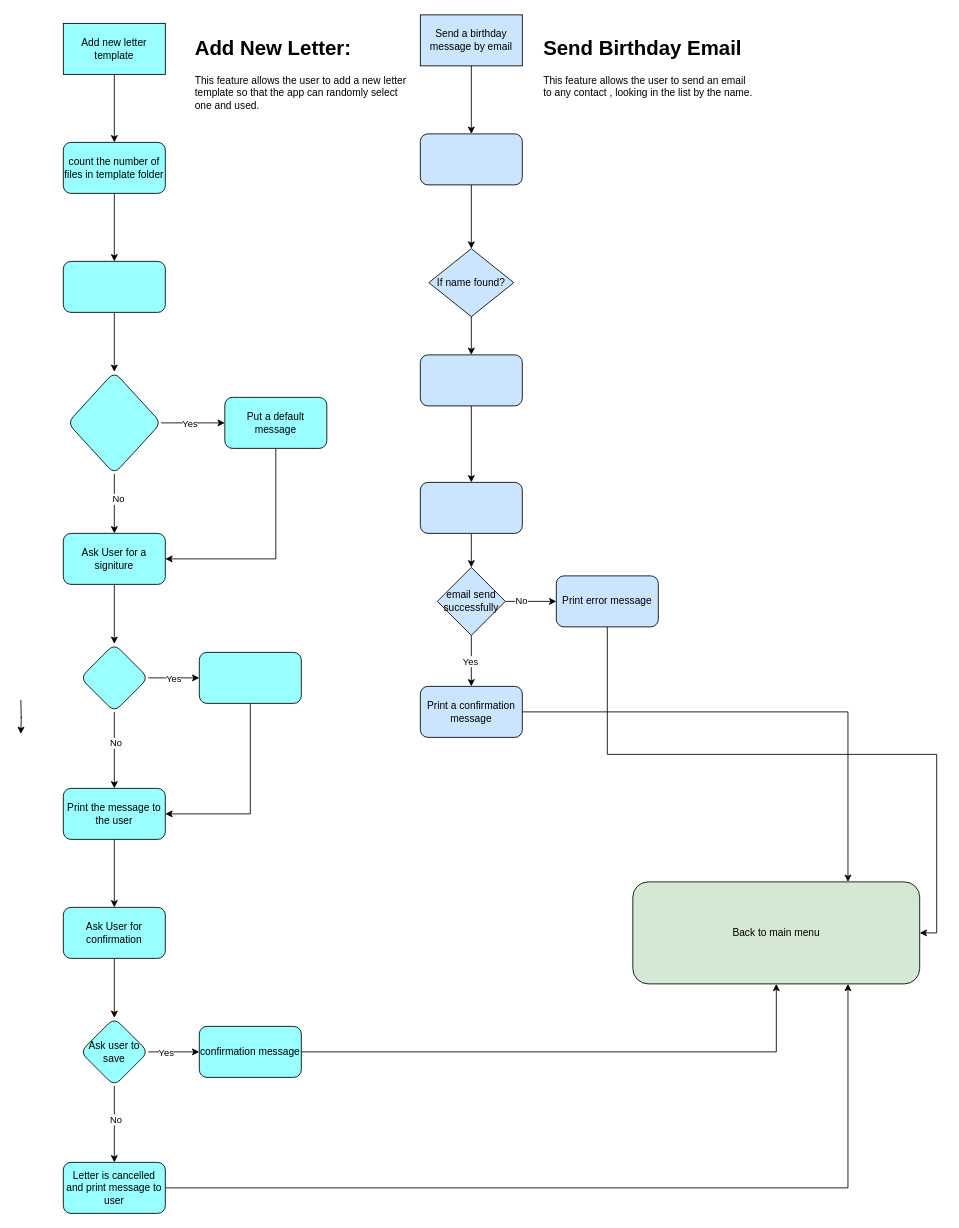
Image size: 959x1228. Some labels were removed from this diagram. The centre of each missing label's shape, as x and y in pixels:
"ask the user for the name in the signiture" belongs at (x=470, y=507).
"ask user to enter a name" belongs at (x=470, y=159).
"ask user to enter the message" belongs at (x=113, y=286).
"check if empty" belongs at (x=113, y=677).
"Check if the message is empty" belongs at (x=114, y=422).
"Print details the user" belongs at (x=470, y=380).
"Put a default signitue" belongs at (x=249, y=677).
